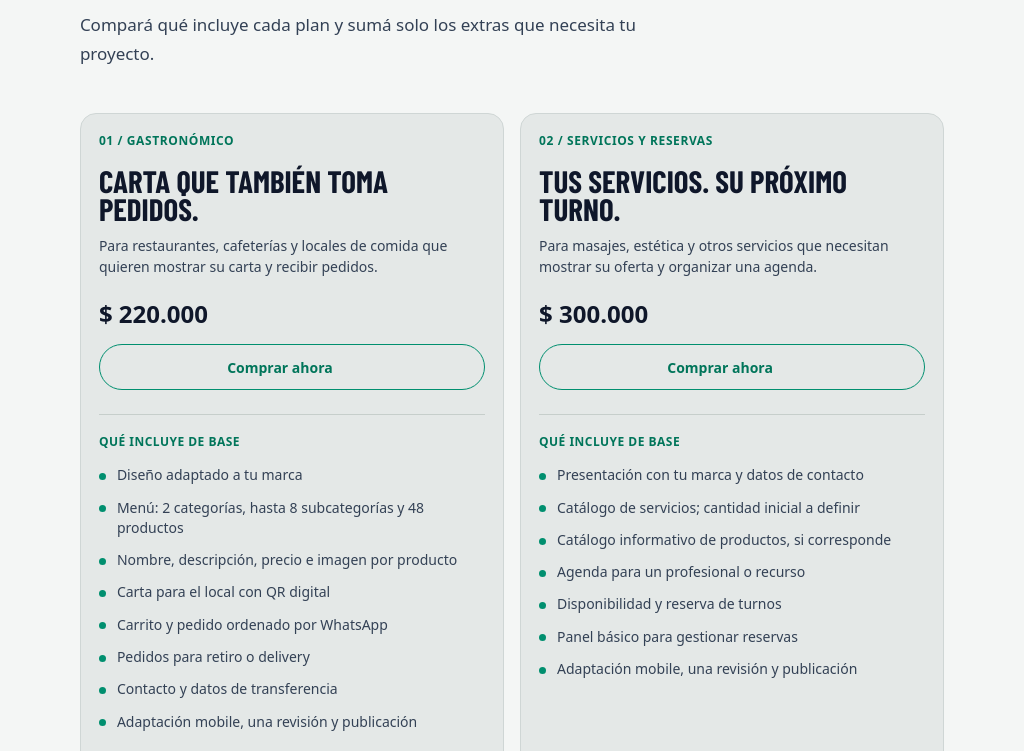
Test case: landing › replaces, rather than accumulates, exclusive table reservation variants
(page scrolled)
Click the button "Comprar ahora" below "$ 220.000".
click(292, 367)  # box [99,344,485,390]
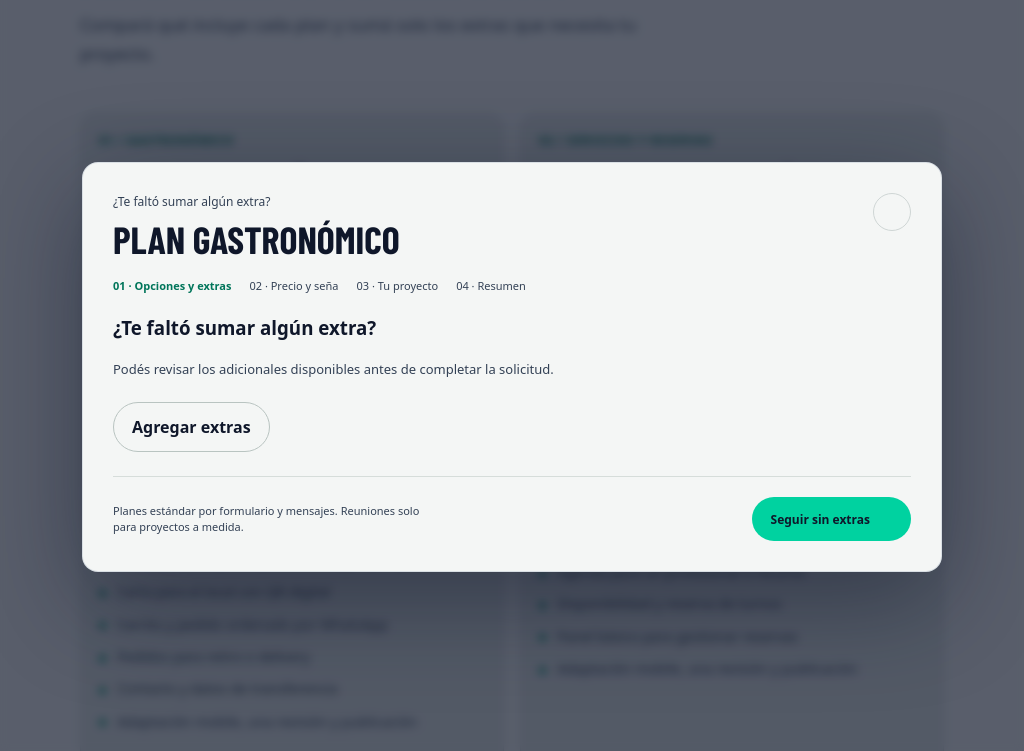
Click the button "Agregar extras".
click(191, 427)  # box [113,402,270,452]
(page scrolled)
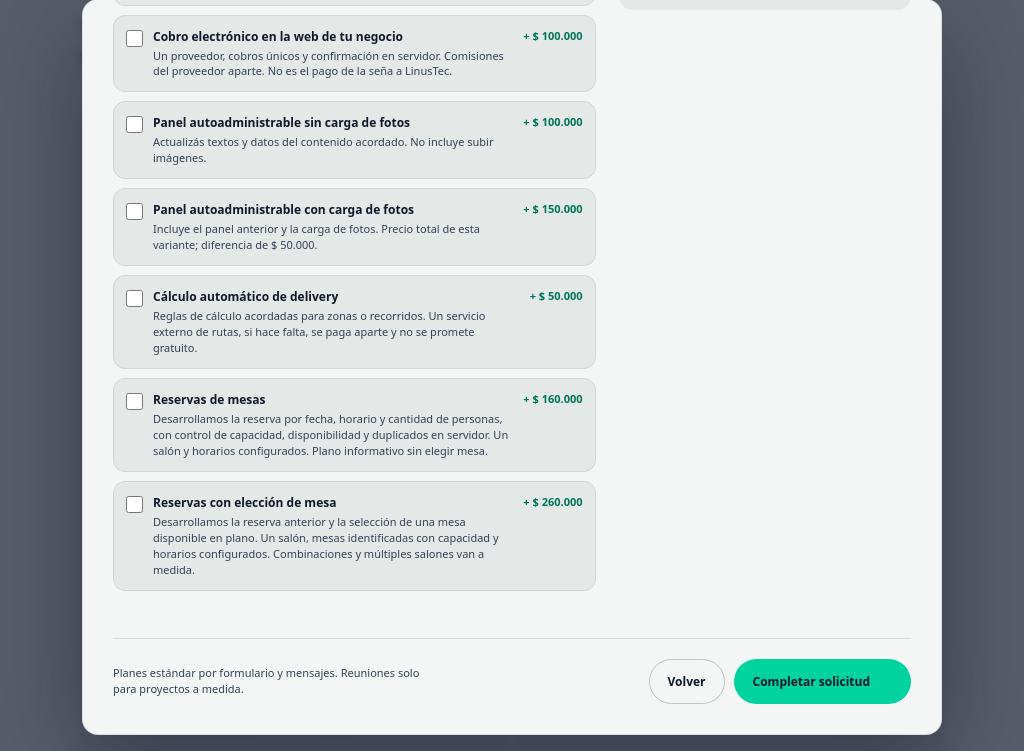
Click the checkbox labelled "Reservas de mesas".
click(134, 401)  # box [126,393,143,410]
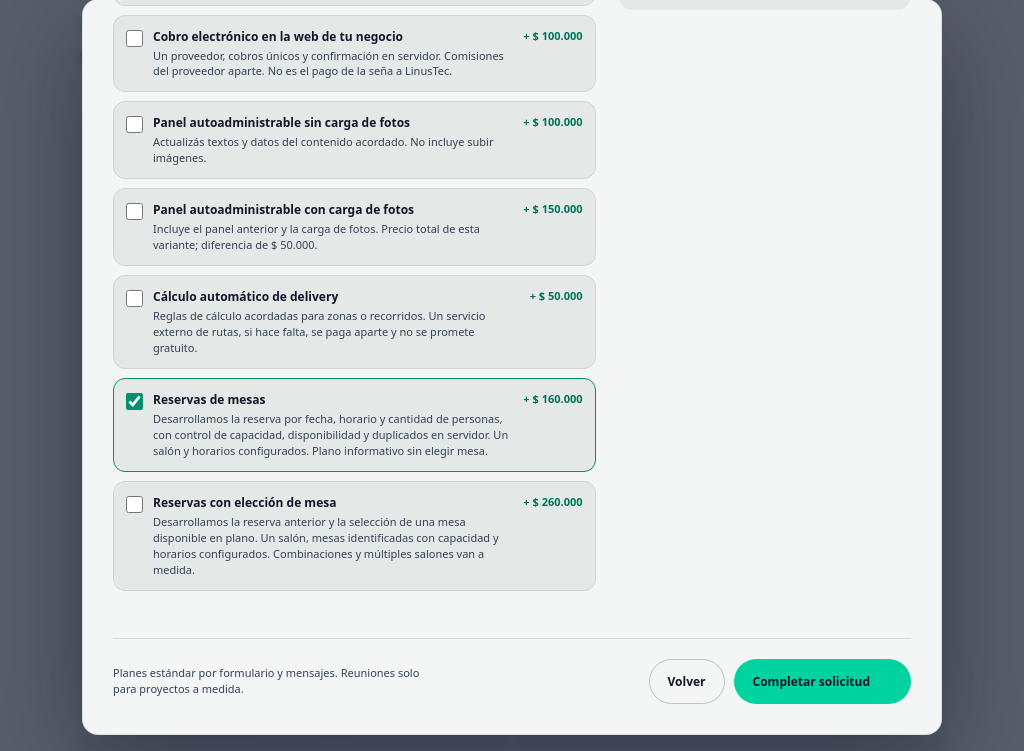
Click the checkbox labelled "Reservas con elección de mesa".
click(134, 504)  # box [126,496,143,513]
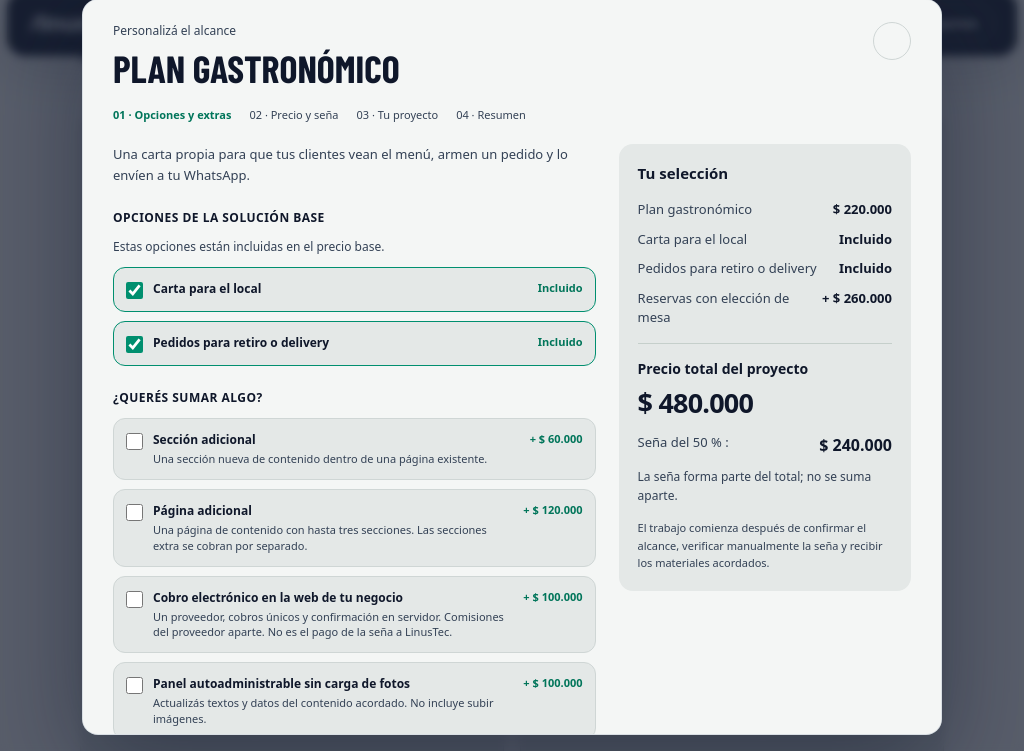
Result: the element labelled "Tu selección" shows "480.000" at [638,384,753,421]
Result: the element labelled "Tu selección" shows "240.000" at [819,434,892,456]
